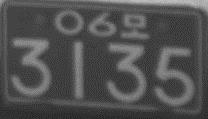0: (54, 8, 84, 36)
1: (61, 40, 96, 101)
3: (106, 41, 148, 105), (9, 37, 52, 98)
5: (152, 46, 196, 107)
6: (87, 9, 117, 38)
모: (120, 12, 150, 40)
